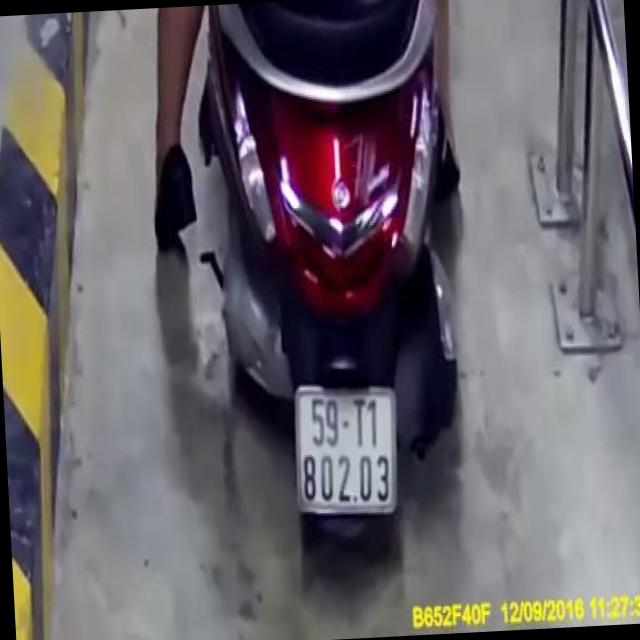LP: (290, 374, 402, 528)
